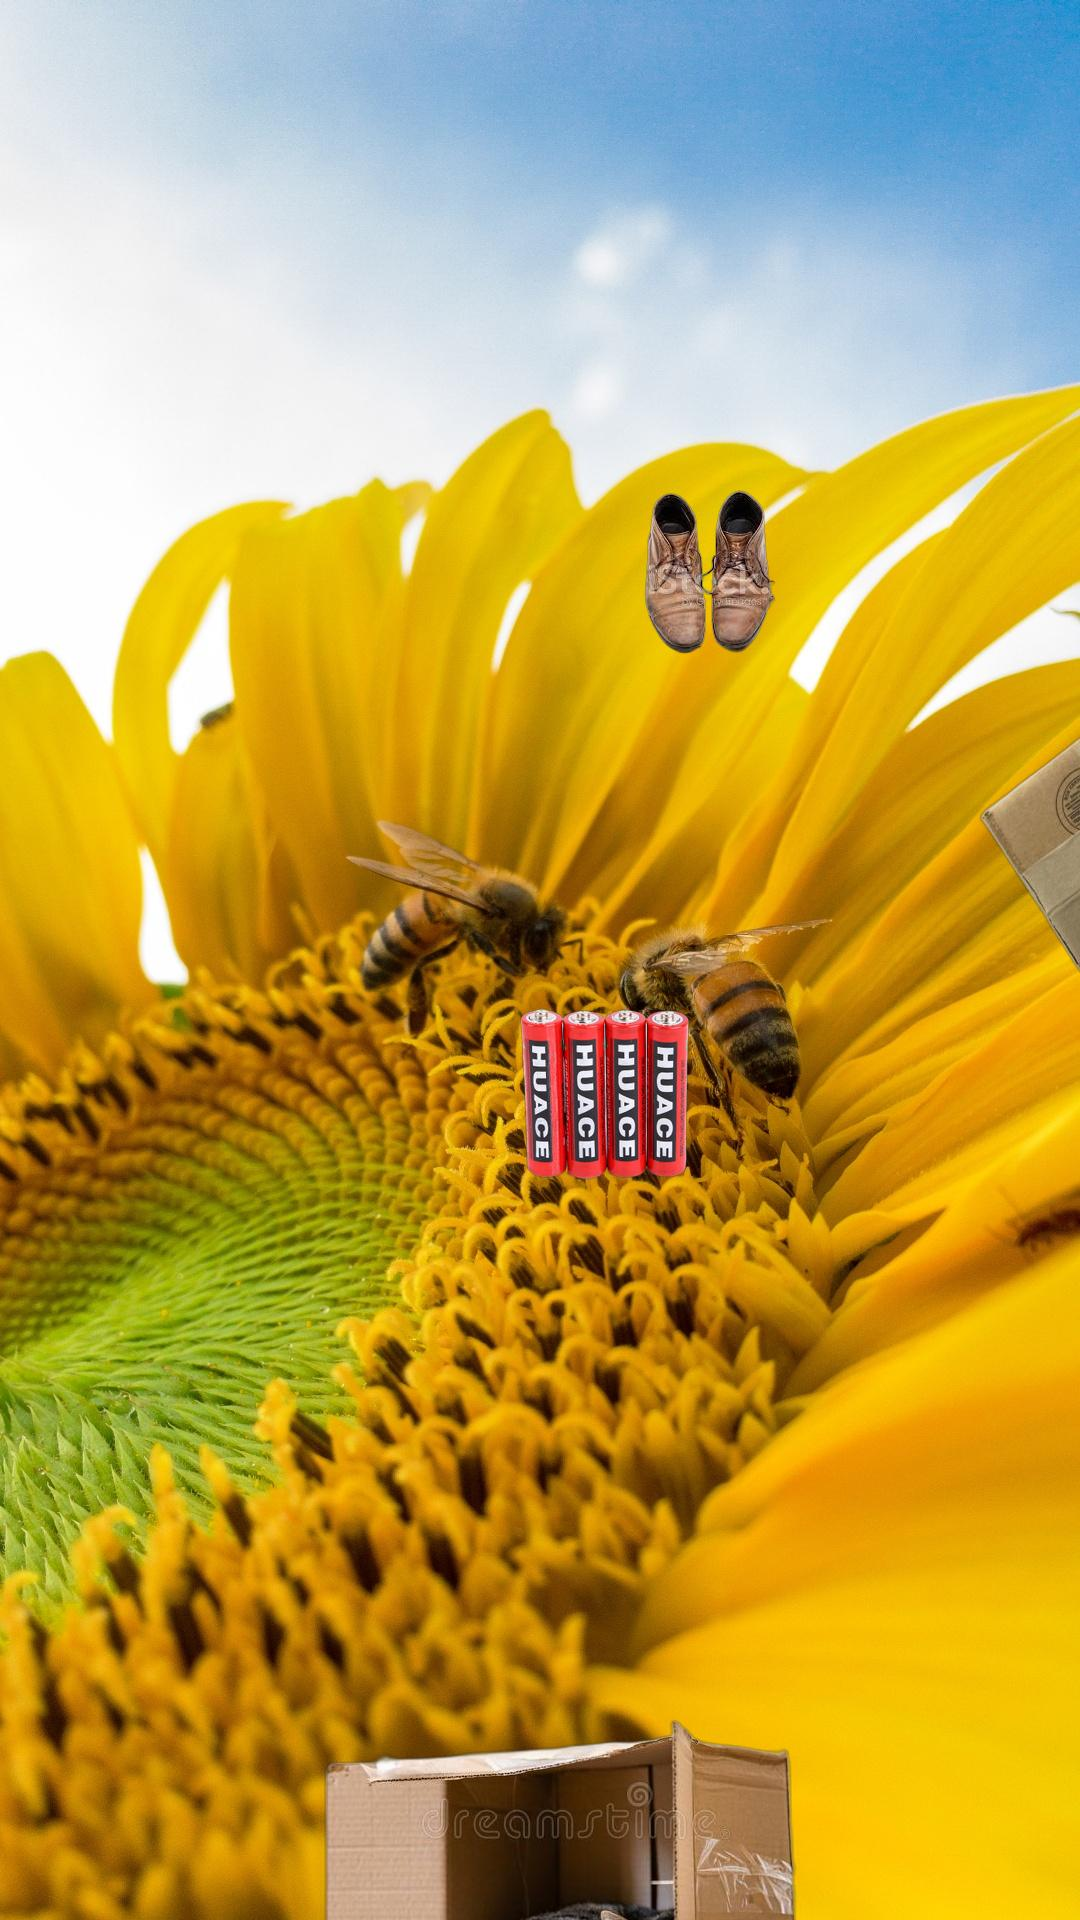battery: (520, 1007, 692, 1182)
shoes: (642, 488, 778, 655)
trashbox-cardboard: (318, 1717, 804, 1920), (976, 637, 1080, 1021)
